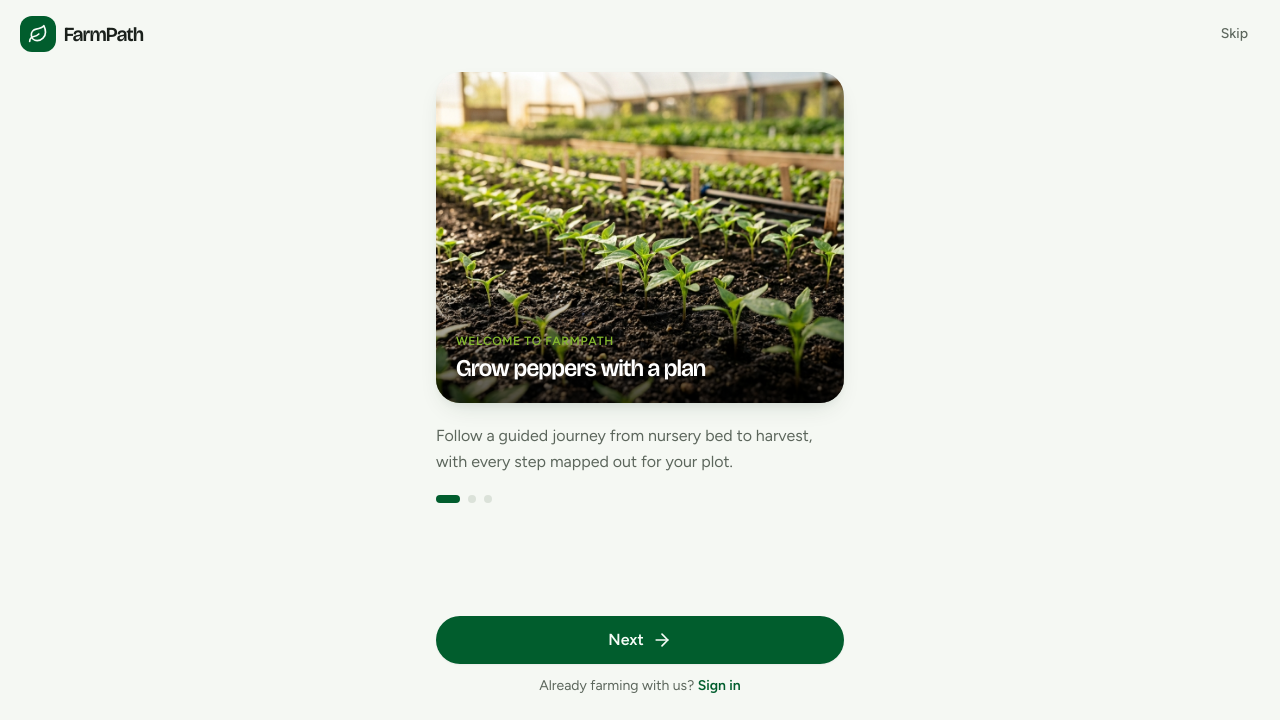
it: Onboarding carousel › jumps directly to a step via its dot
This screenshot has width=1280, height=720.
Click the button with test id "onboarding.dot.3".
click(488, 499)  # box [484,495,492,503]
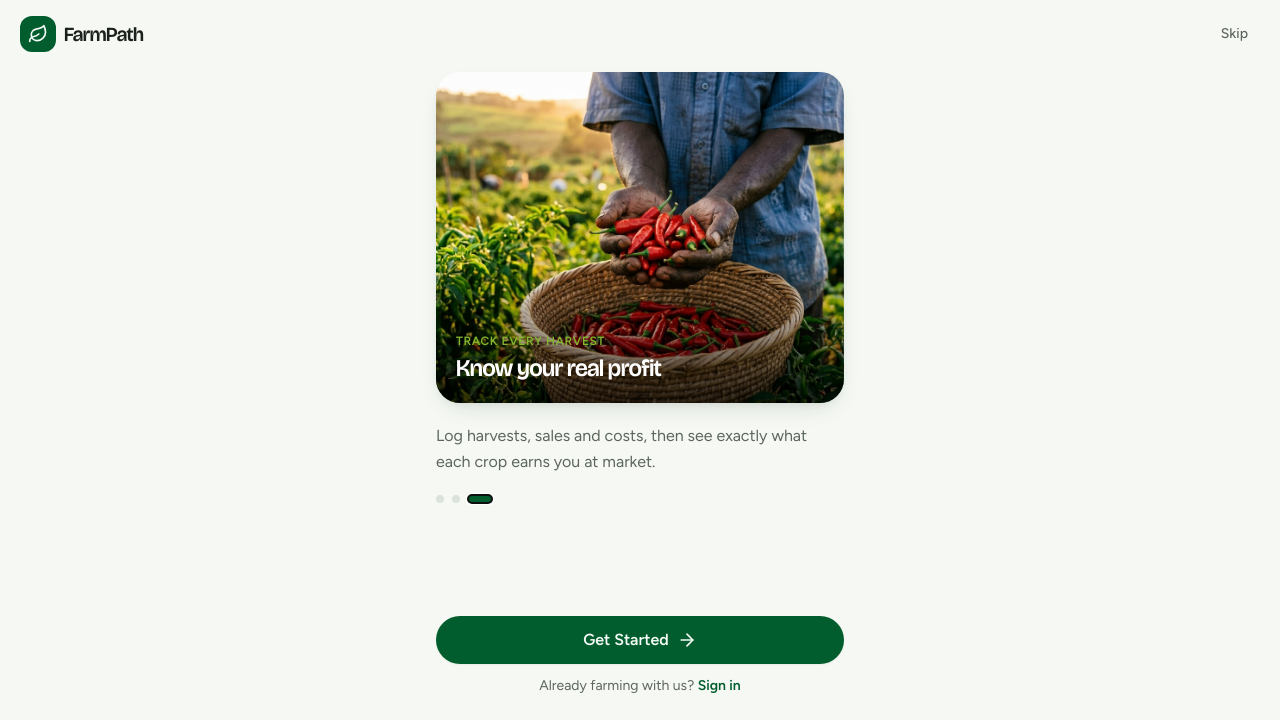
Expected: the heading "Know your real profit" is shown, [456,354,661,382]
Expected: the link with test id "onboarding.get_started_button" is shown, [436,616,844,664]
